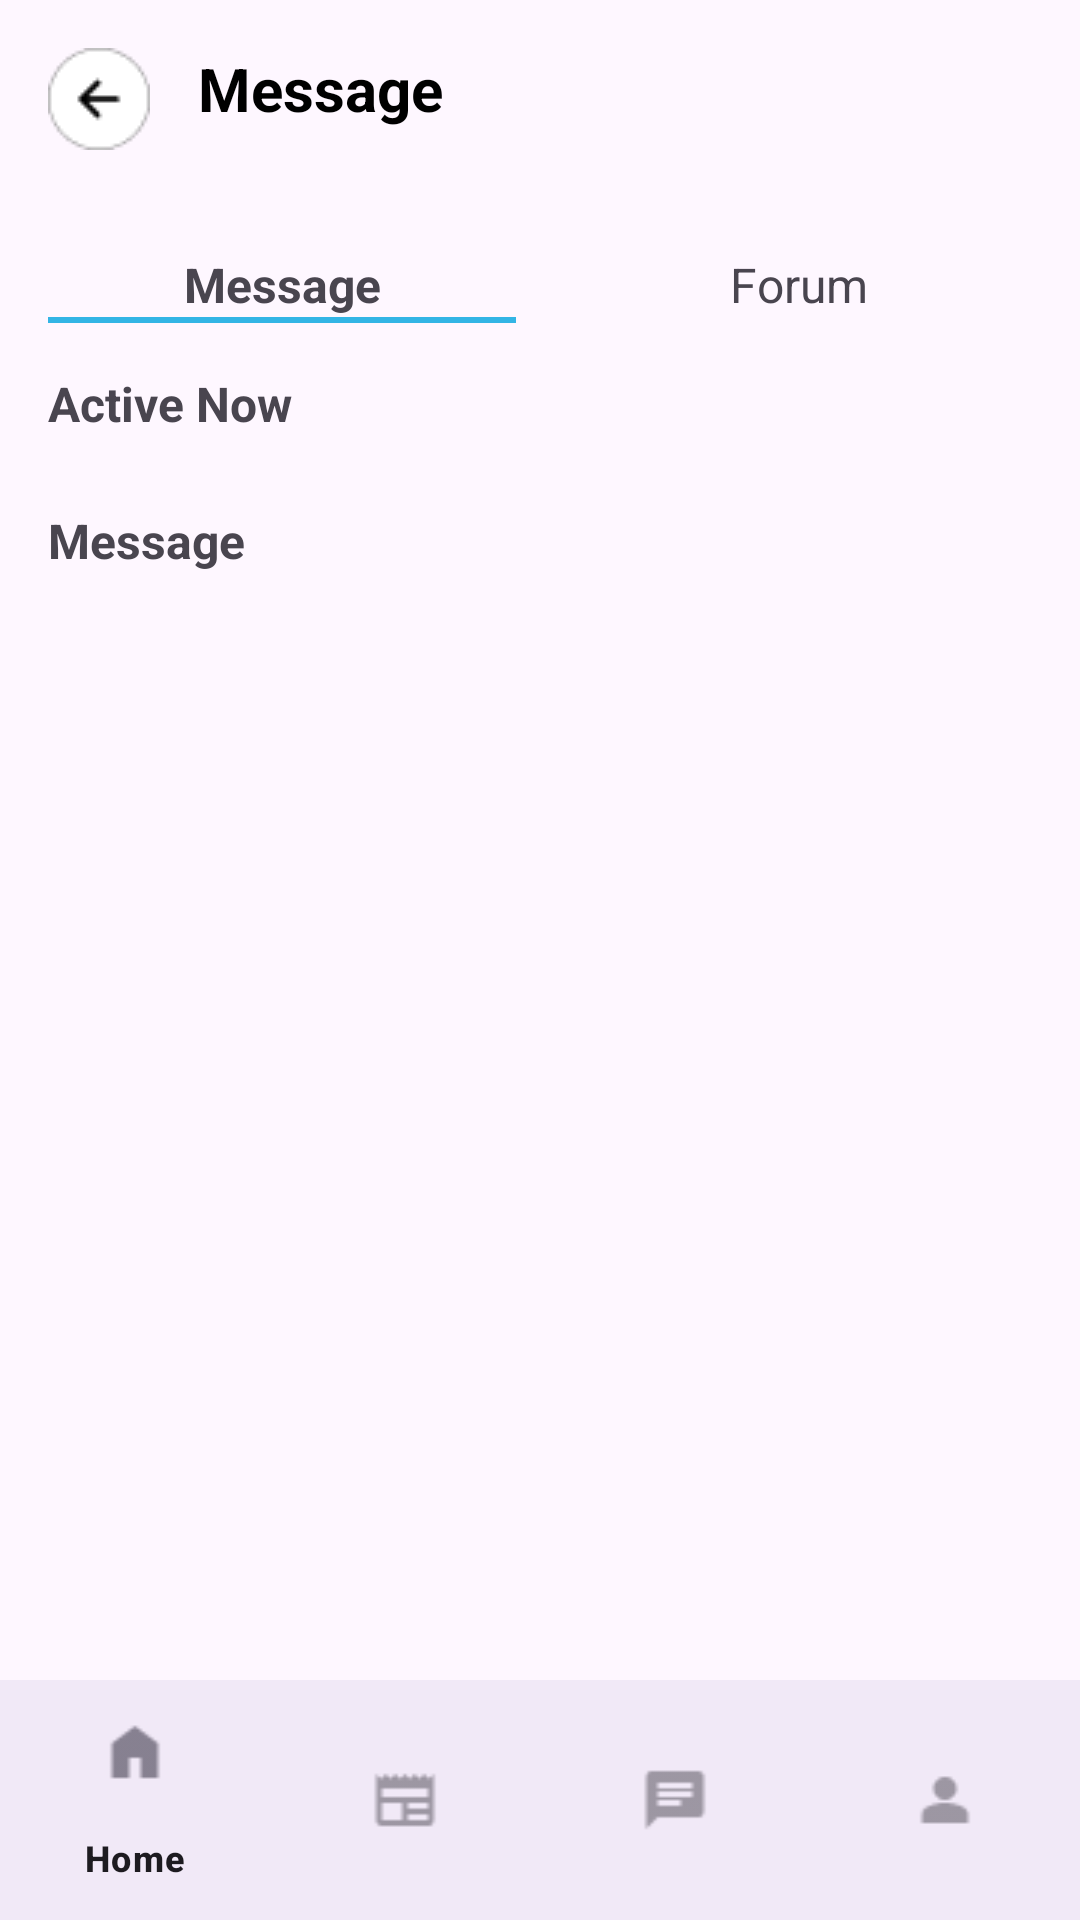

Named icons in this screenshot (1080px×1920px) and their centers, point (x, y):
Back Icon: point (99, 99)
